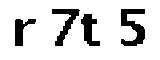5: (116, 6, 149, 52)
7: (44, 6, 80, 50)
r: (12, 15, 39, 52)
t: (80, 12, 105, 51)
